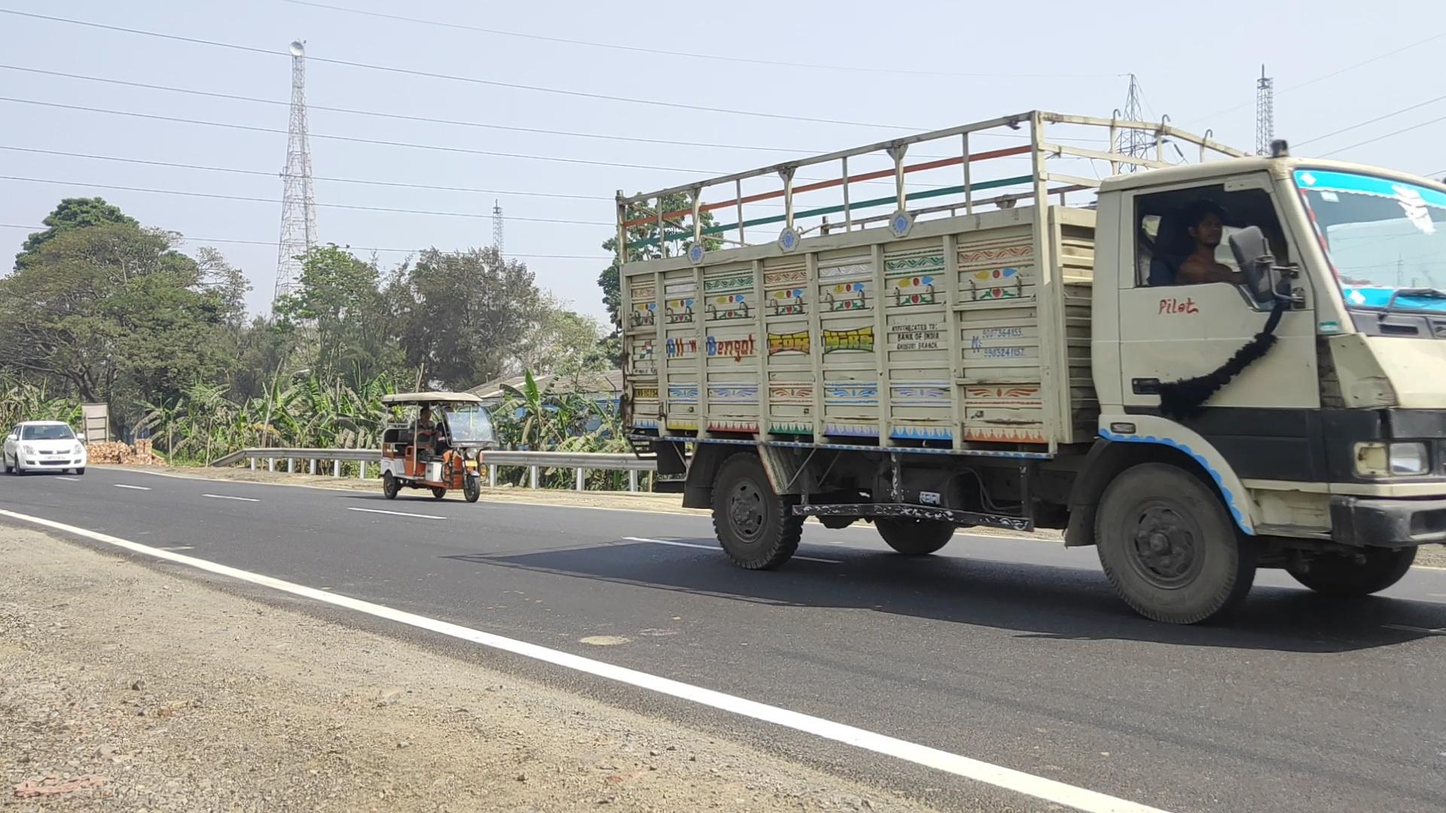Auto: (378, 391, 500, 503)
car: (4, 420, 87, 477)
truck: (614, 109, 1446, 626)
